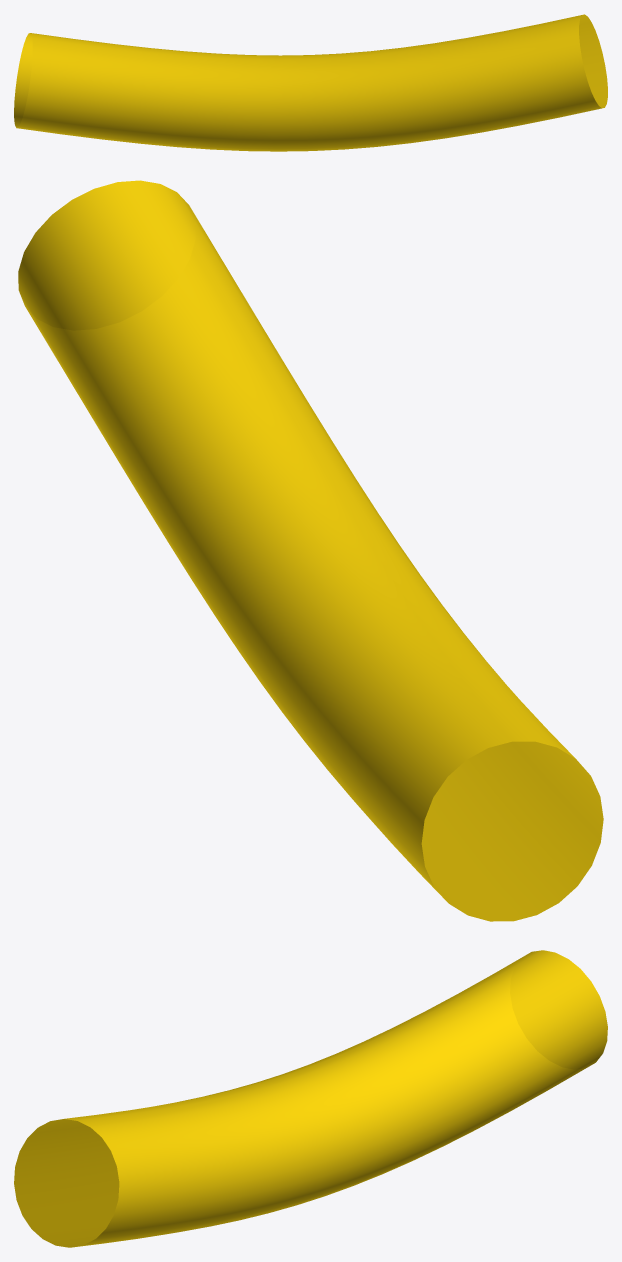
File: Event_421115418_track_131.fbx
3 renders of one model, top to bottom at view 1: azimuth 30°, elevation 25°; view 2: azimuth 150°, elevation 25°; view 3: azimuth 270°, elevation 25°, orthographic. The views are drawn at different scales.
Parts seen in each view (by area): view 1: Model; view 2: Model; view 3: Model.
Part boxes in pixels (x1,y1,x2,y2): Model: (14,14,607,151); Model: (18,180,603,921); Model: (14,950,607,1247).
Bounding box in the file's own units: 0.2109 × 0.0691 × 0.1838.
